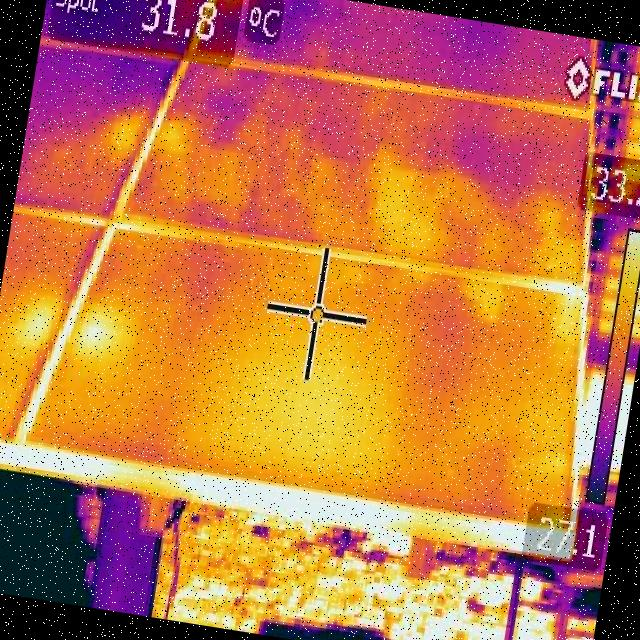Hotspot: (7, 298, 59, 358), (72, 314, 118, 357)
